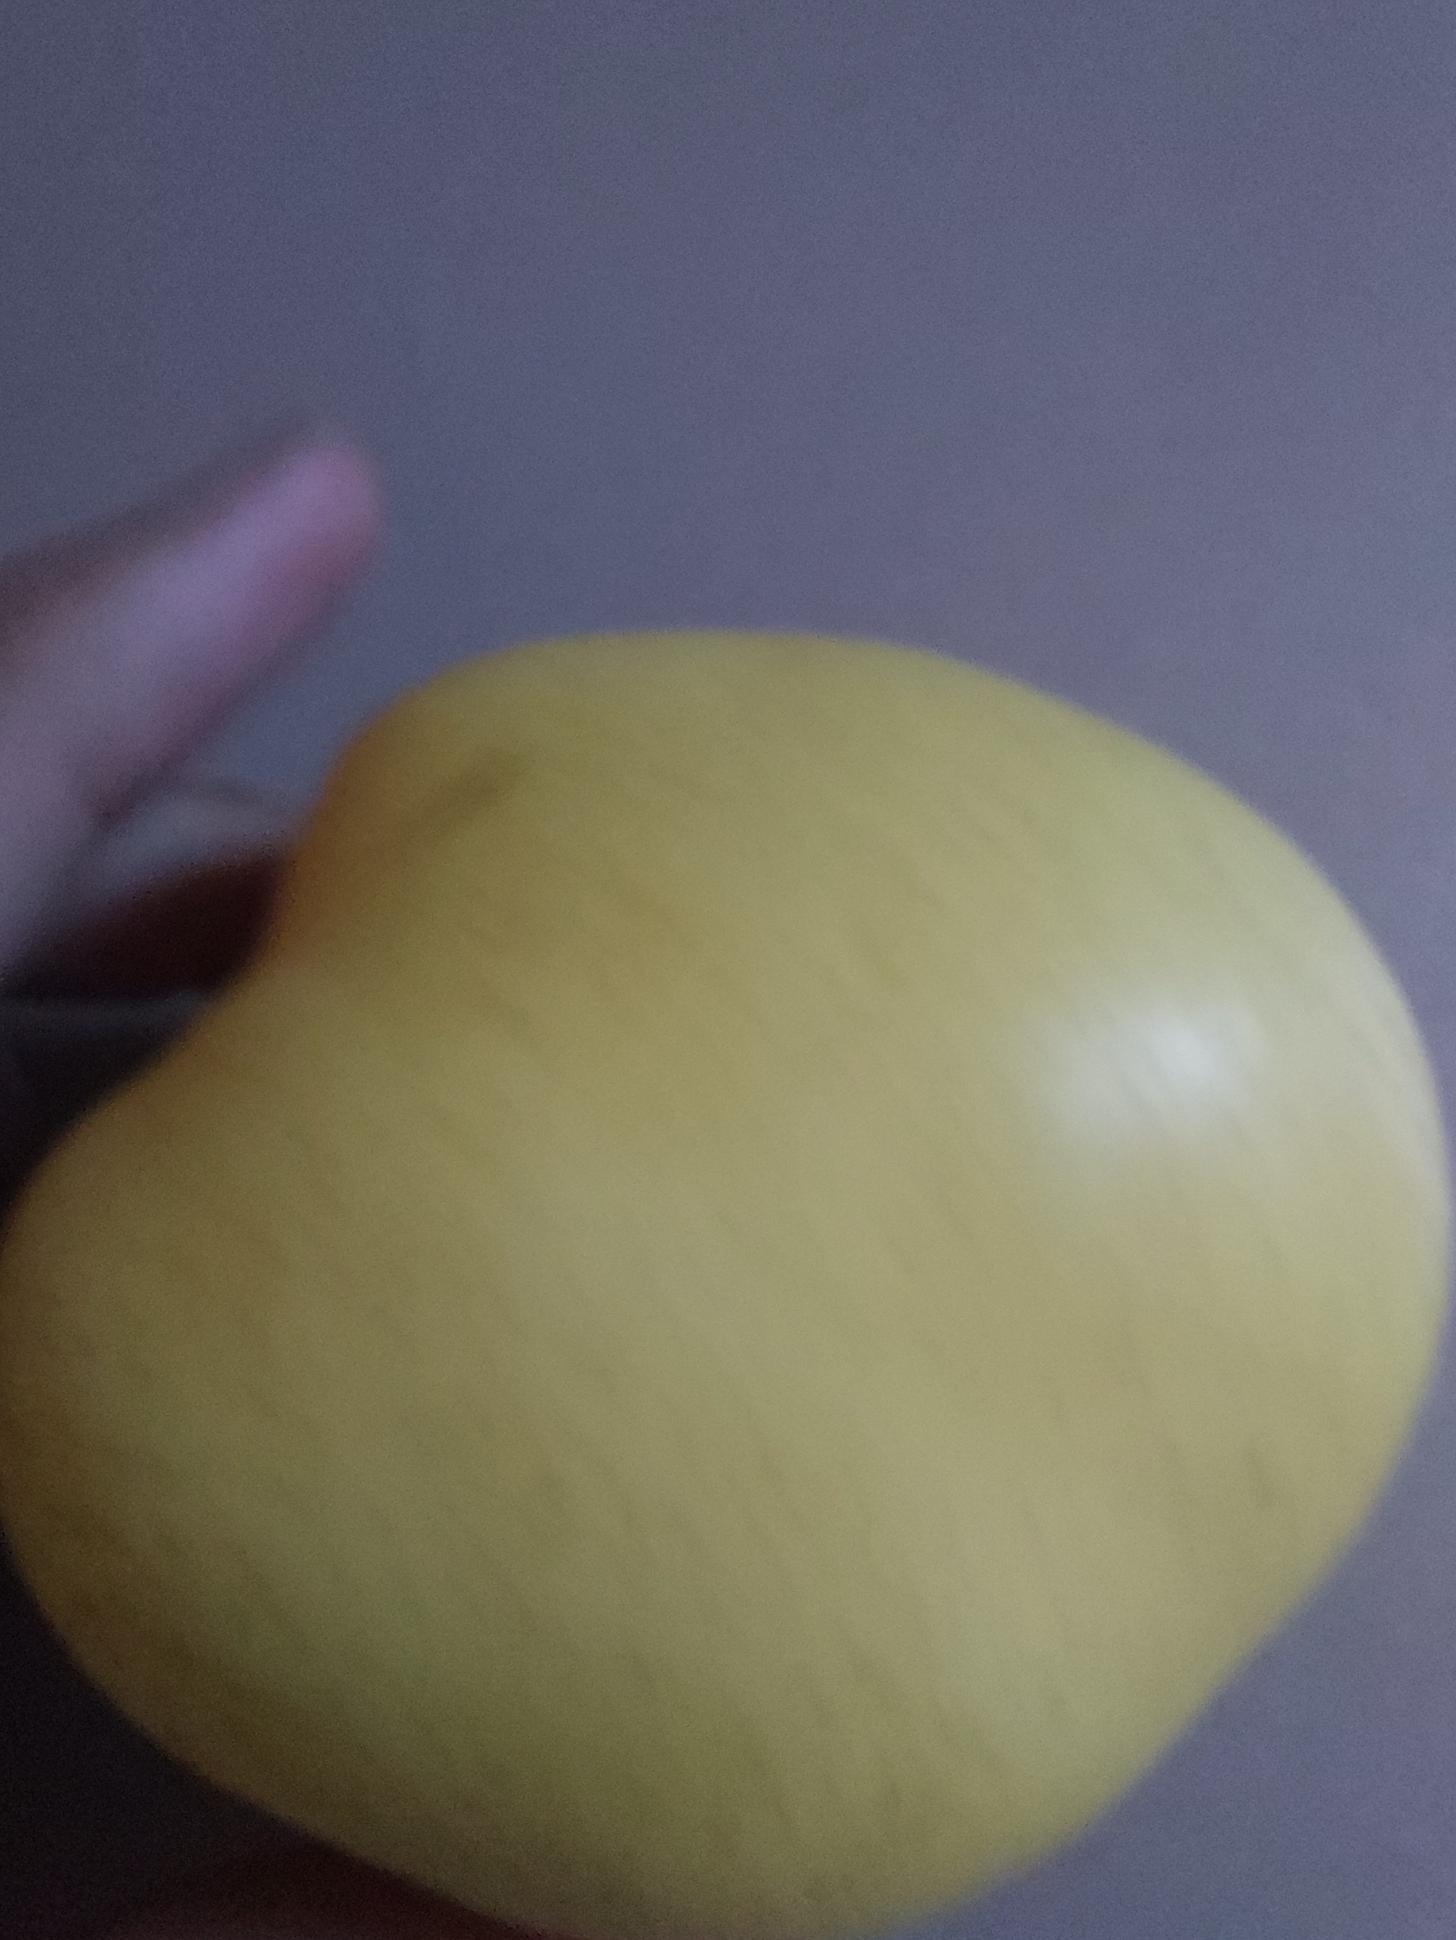Good Pear: (1, 625, 1443, 1907)
